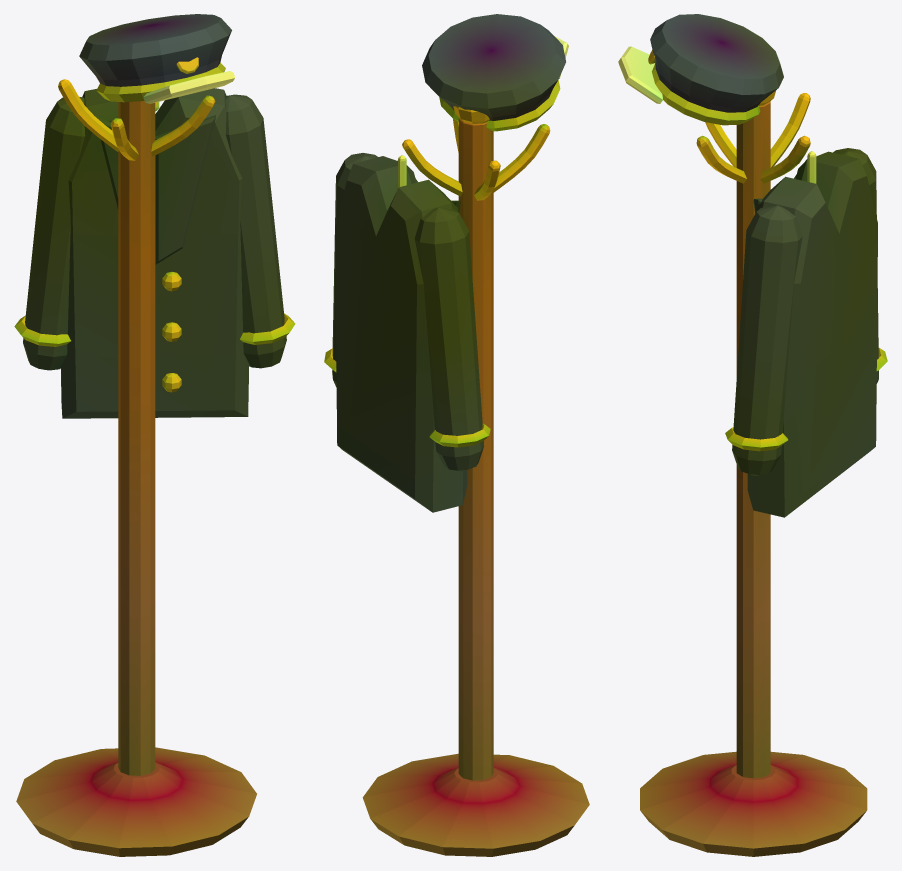
Rendered from Prop_CoatStand.fbx.
The picture shows the model from 3 angles, left to right: view 1: azimuth 30°, elevation 25°; view 2: azimuth 150°, elevation 25°; view 3: azimuth 270°, elevation 25°; orthographic projection. The views are drawn at different scales.
Parts seen in each view (by area): view 1: Prop_CoatStand; view 2: Prop_CoatStand; view 3: Prop_CoatStand.
Part boxes in pixels (left/top/right/bottom): Prop_CoatStand: left=14, top=14, right=295, bottom=856; Prop_CoatStand: left=324, top=14, right=589, bottom=856; Prop_CoatStand: left=618, top=14, right=887, bottom=856.
Size of the model in its own units: 0.6471 by 1.92 by 0.6013.
